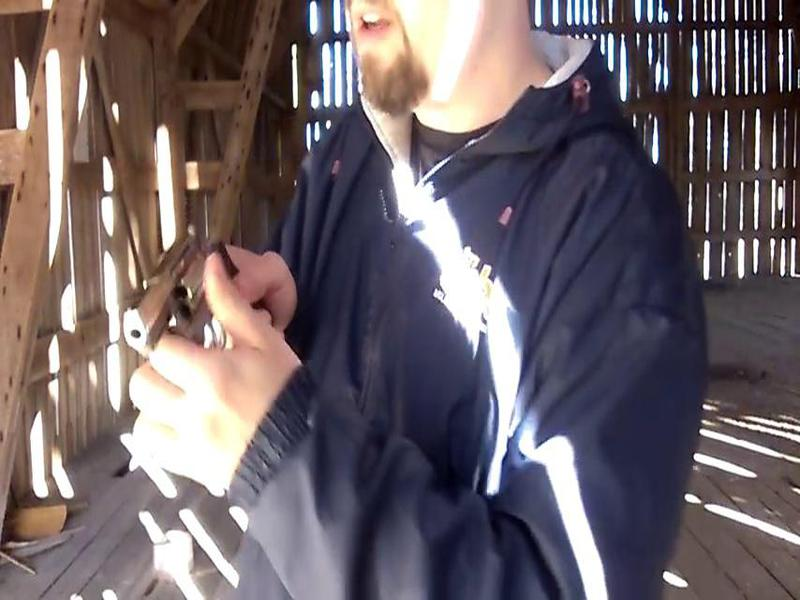Revolver: (117, 216, 279, 395)
